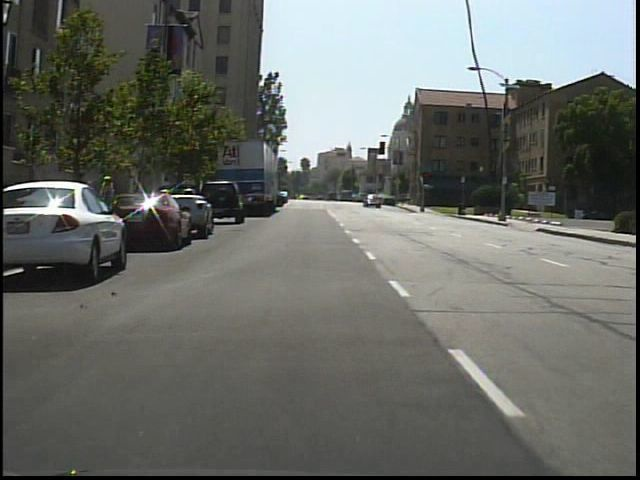person: (72, 167, 96, 228), (99, 171, 122, 225)
